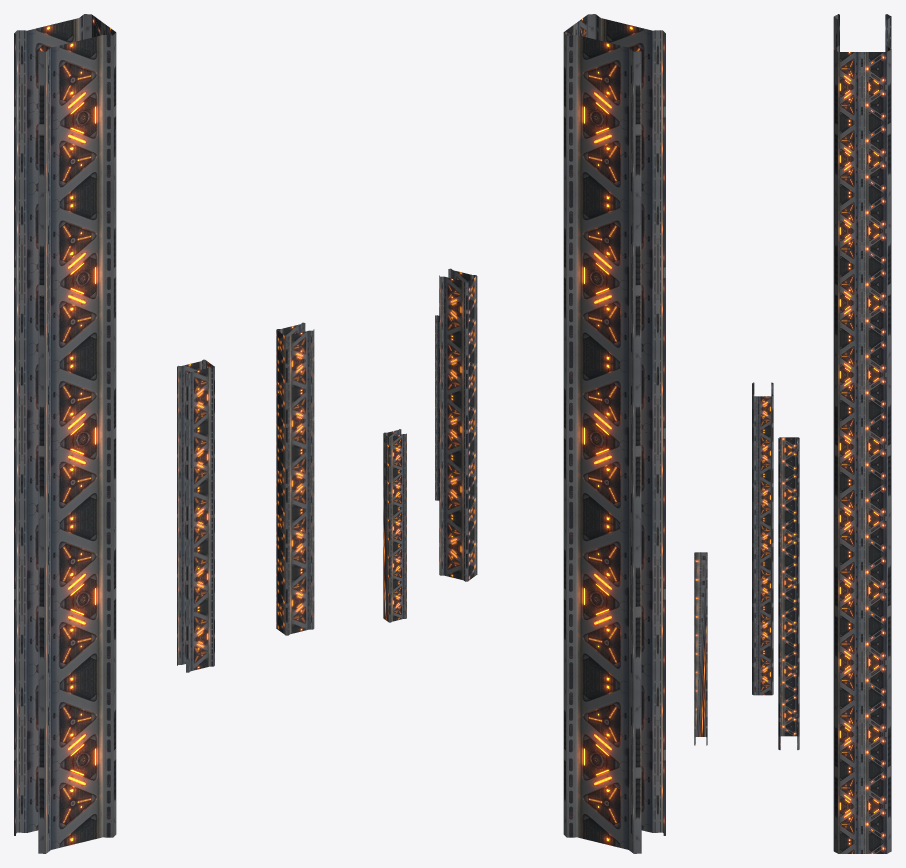
3 renders of one model, left to right at view 1: azimuth 30°, elevation 25°; view 2: azimuth 150°, elevation 25°; view 3: azimuth 270°, elevation 25°, orthographic.
Parts seen in each view (by area): view 1: Plane.002; view 2: Plane.002; view 3: Plane.002.
Boxes of the visible parts, x1=… form: Plane.002: x1=14, y1=14, x2=406, y2=853; Plane.002: x1=435, y1=14, x2=665, y2=853; Plane.002: x1=694, y1=14, x2=891, y2=853.
Bounding box in the file's own units: 41.83 × 108 × 24.07.
Materials: 1 (1 with a texture image).
